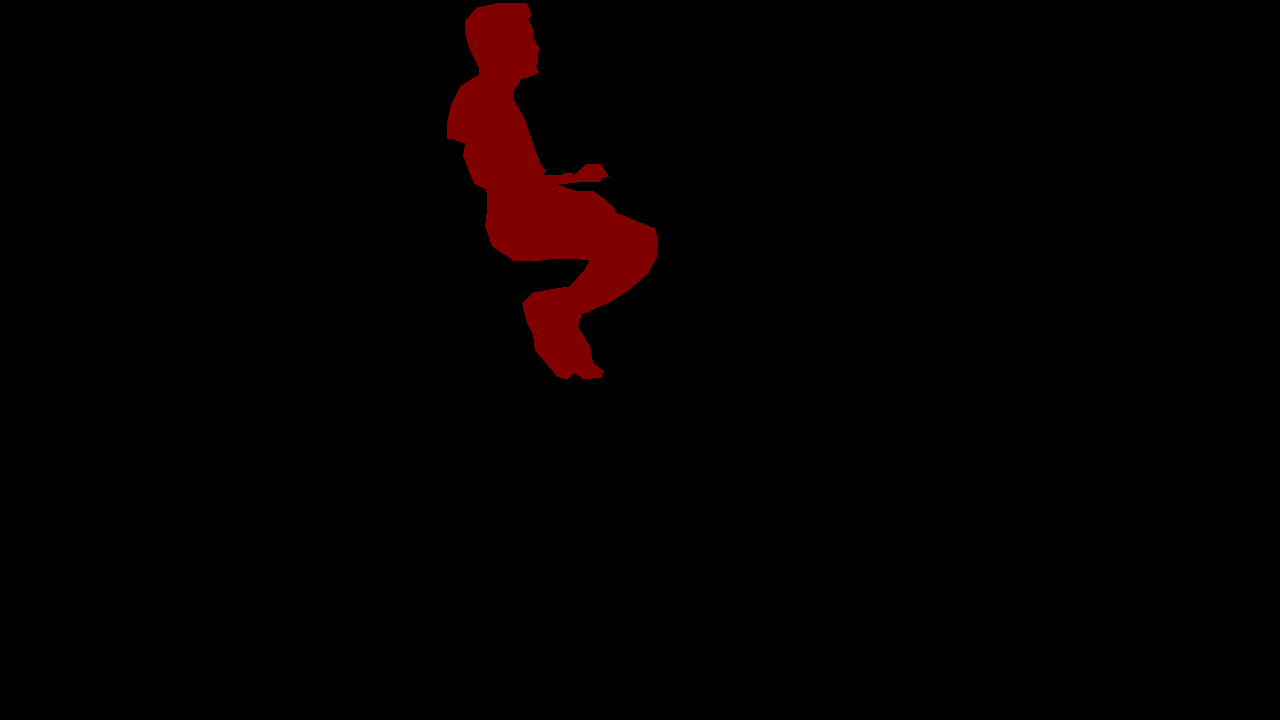person: (447, 3, 657, 379)
